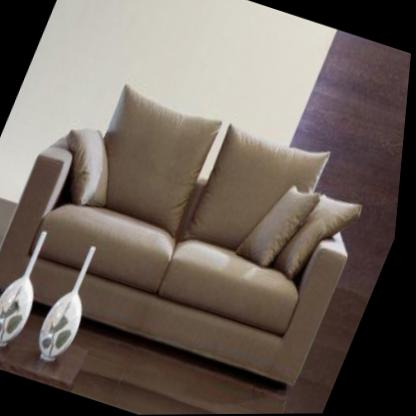Sofa: (0, 67, 397, 401)
